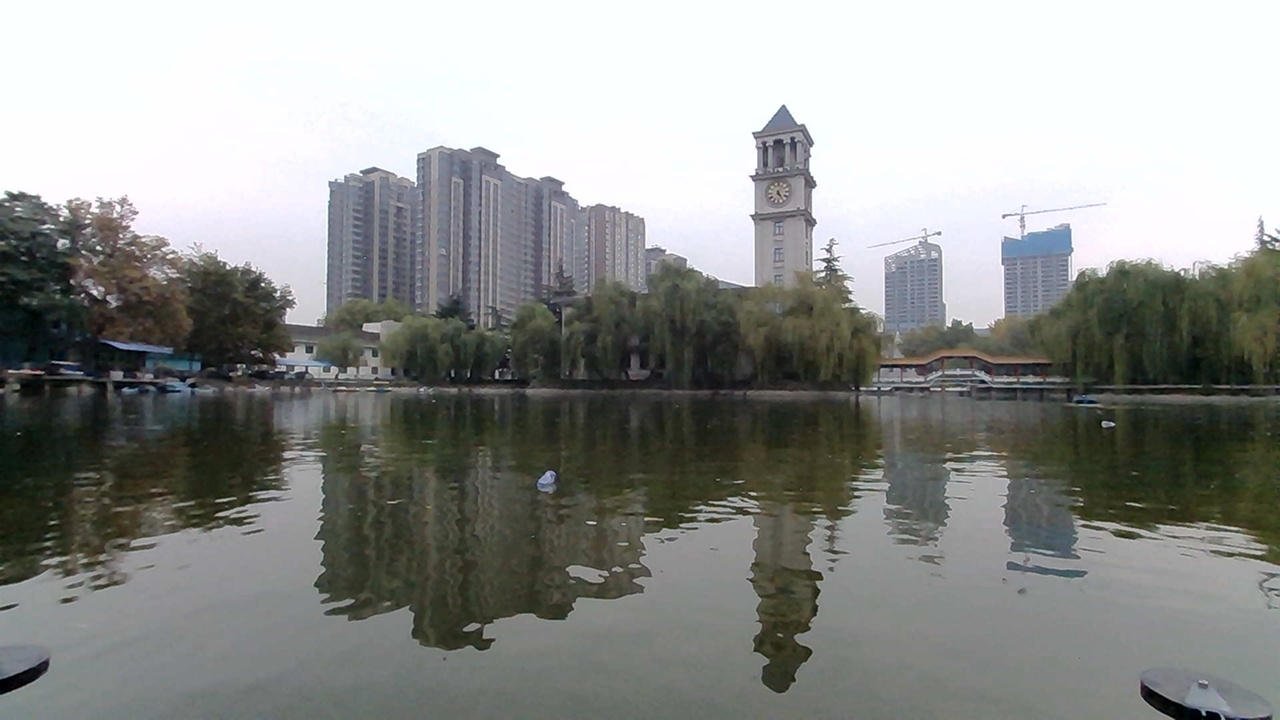bottle: (508, 449, 586, 496), (1082, 407, 1122, 434)
